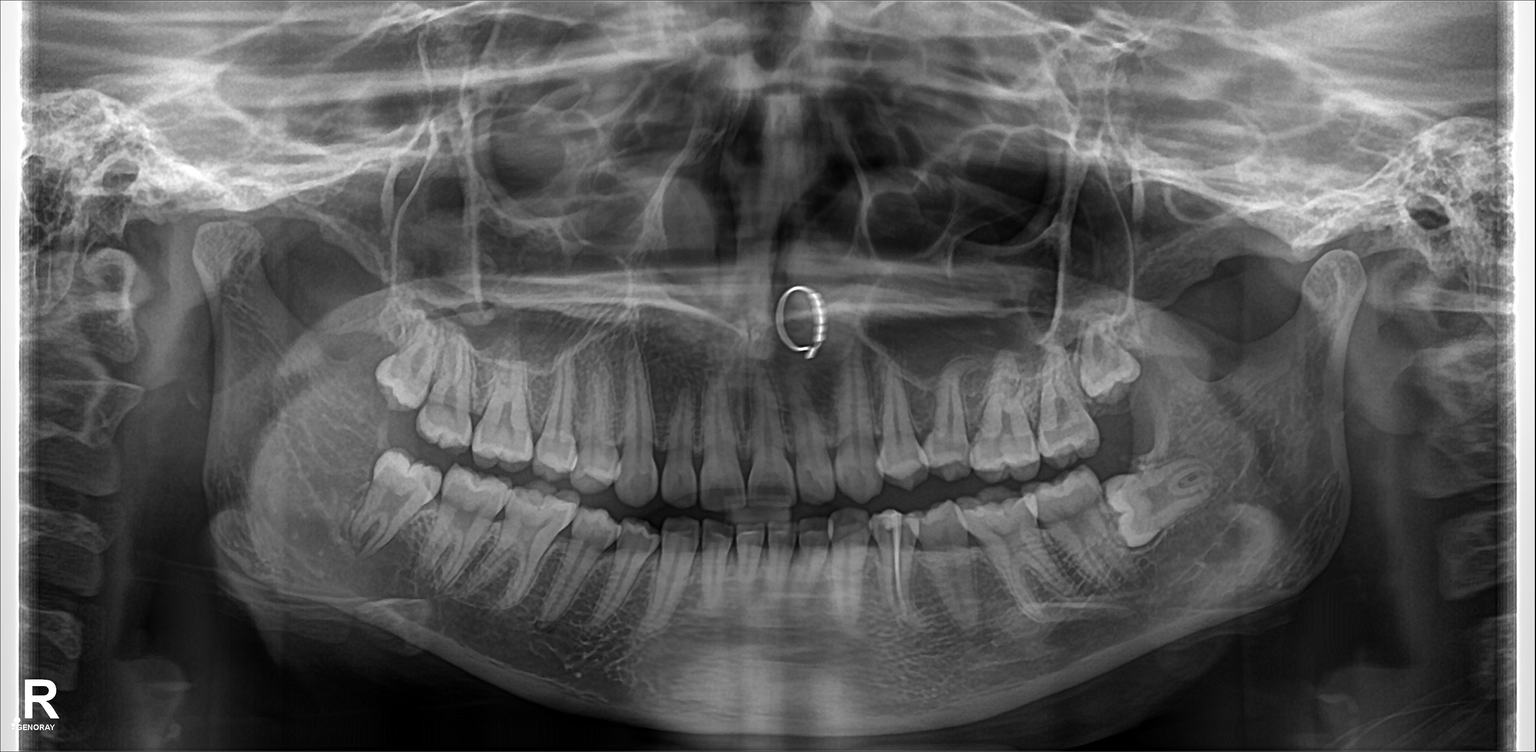Impacted Third Molar: (1114, 459, 1205, 556), (1080, 331, 1143, 398)
